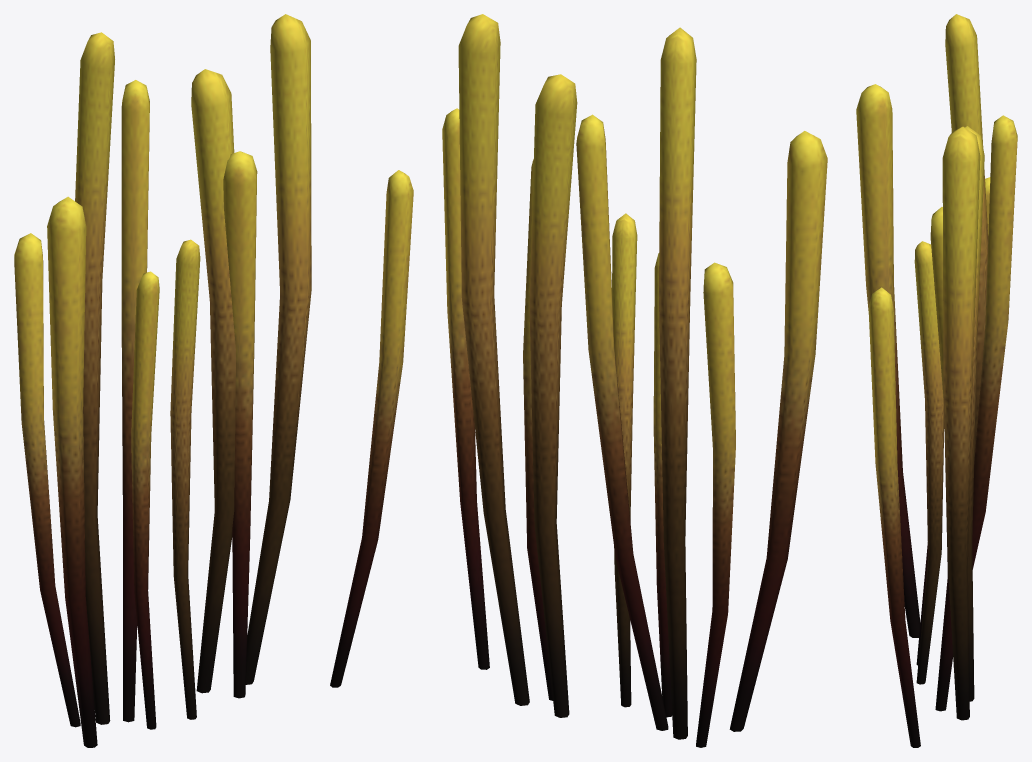
File: Coral_39c.FBX
The picture shows the model from 3 angles, left to right: view 1: azimuth 30°, elevation 25°; view 2: azimuth 150°, elevation 25°; view 3: azimuth 270°, elevation 25°; orthographic projection. The views are drawn at different scales.
Parts seen in each view (by area): view 1: Coral_39c; view 2: Coral_39c; view 3: Coral_39c.
Boxes of the visible parts, x1=… form: Coral_39c: x1=14, y1=14, x2=413, y2=747; Coral_39c: x1=442, y1=14, x2=827, y2=747; Coral_39c: x1=856, y1=14, x2=1017, y2=747.
Bounding box in the file's own units: 43.71 × 79.27 × 18.23.
